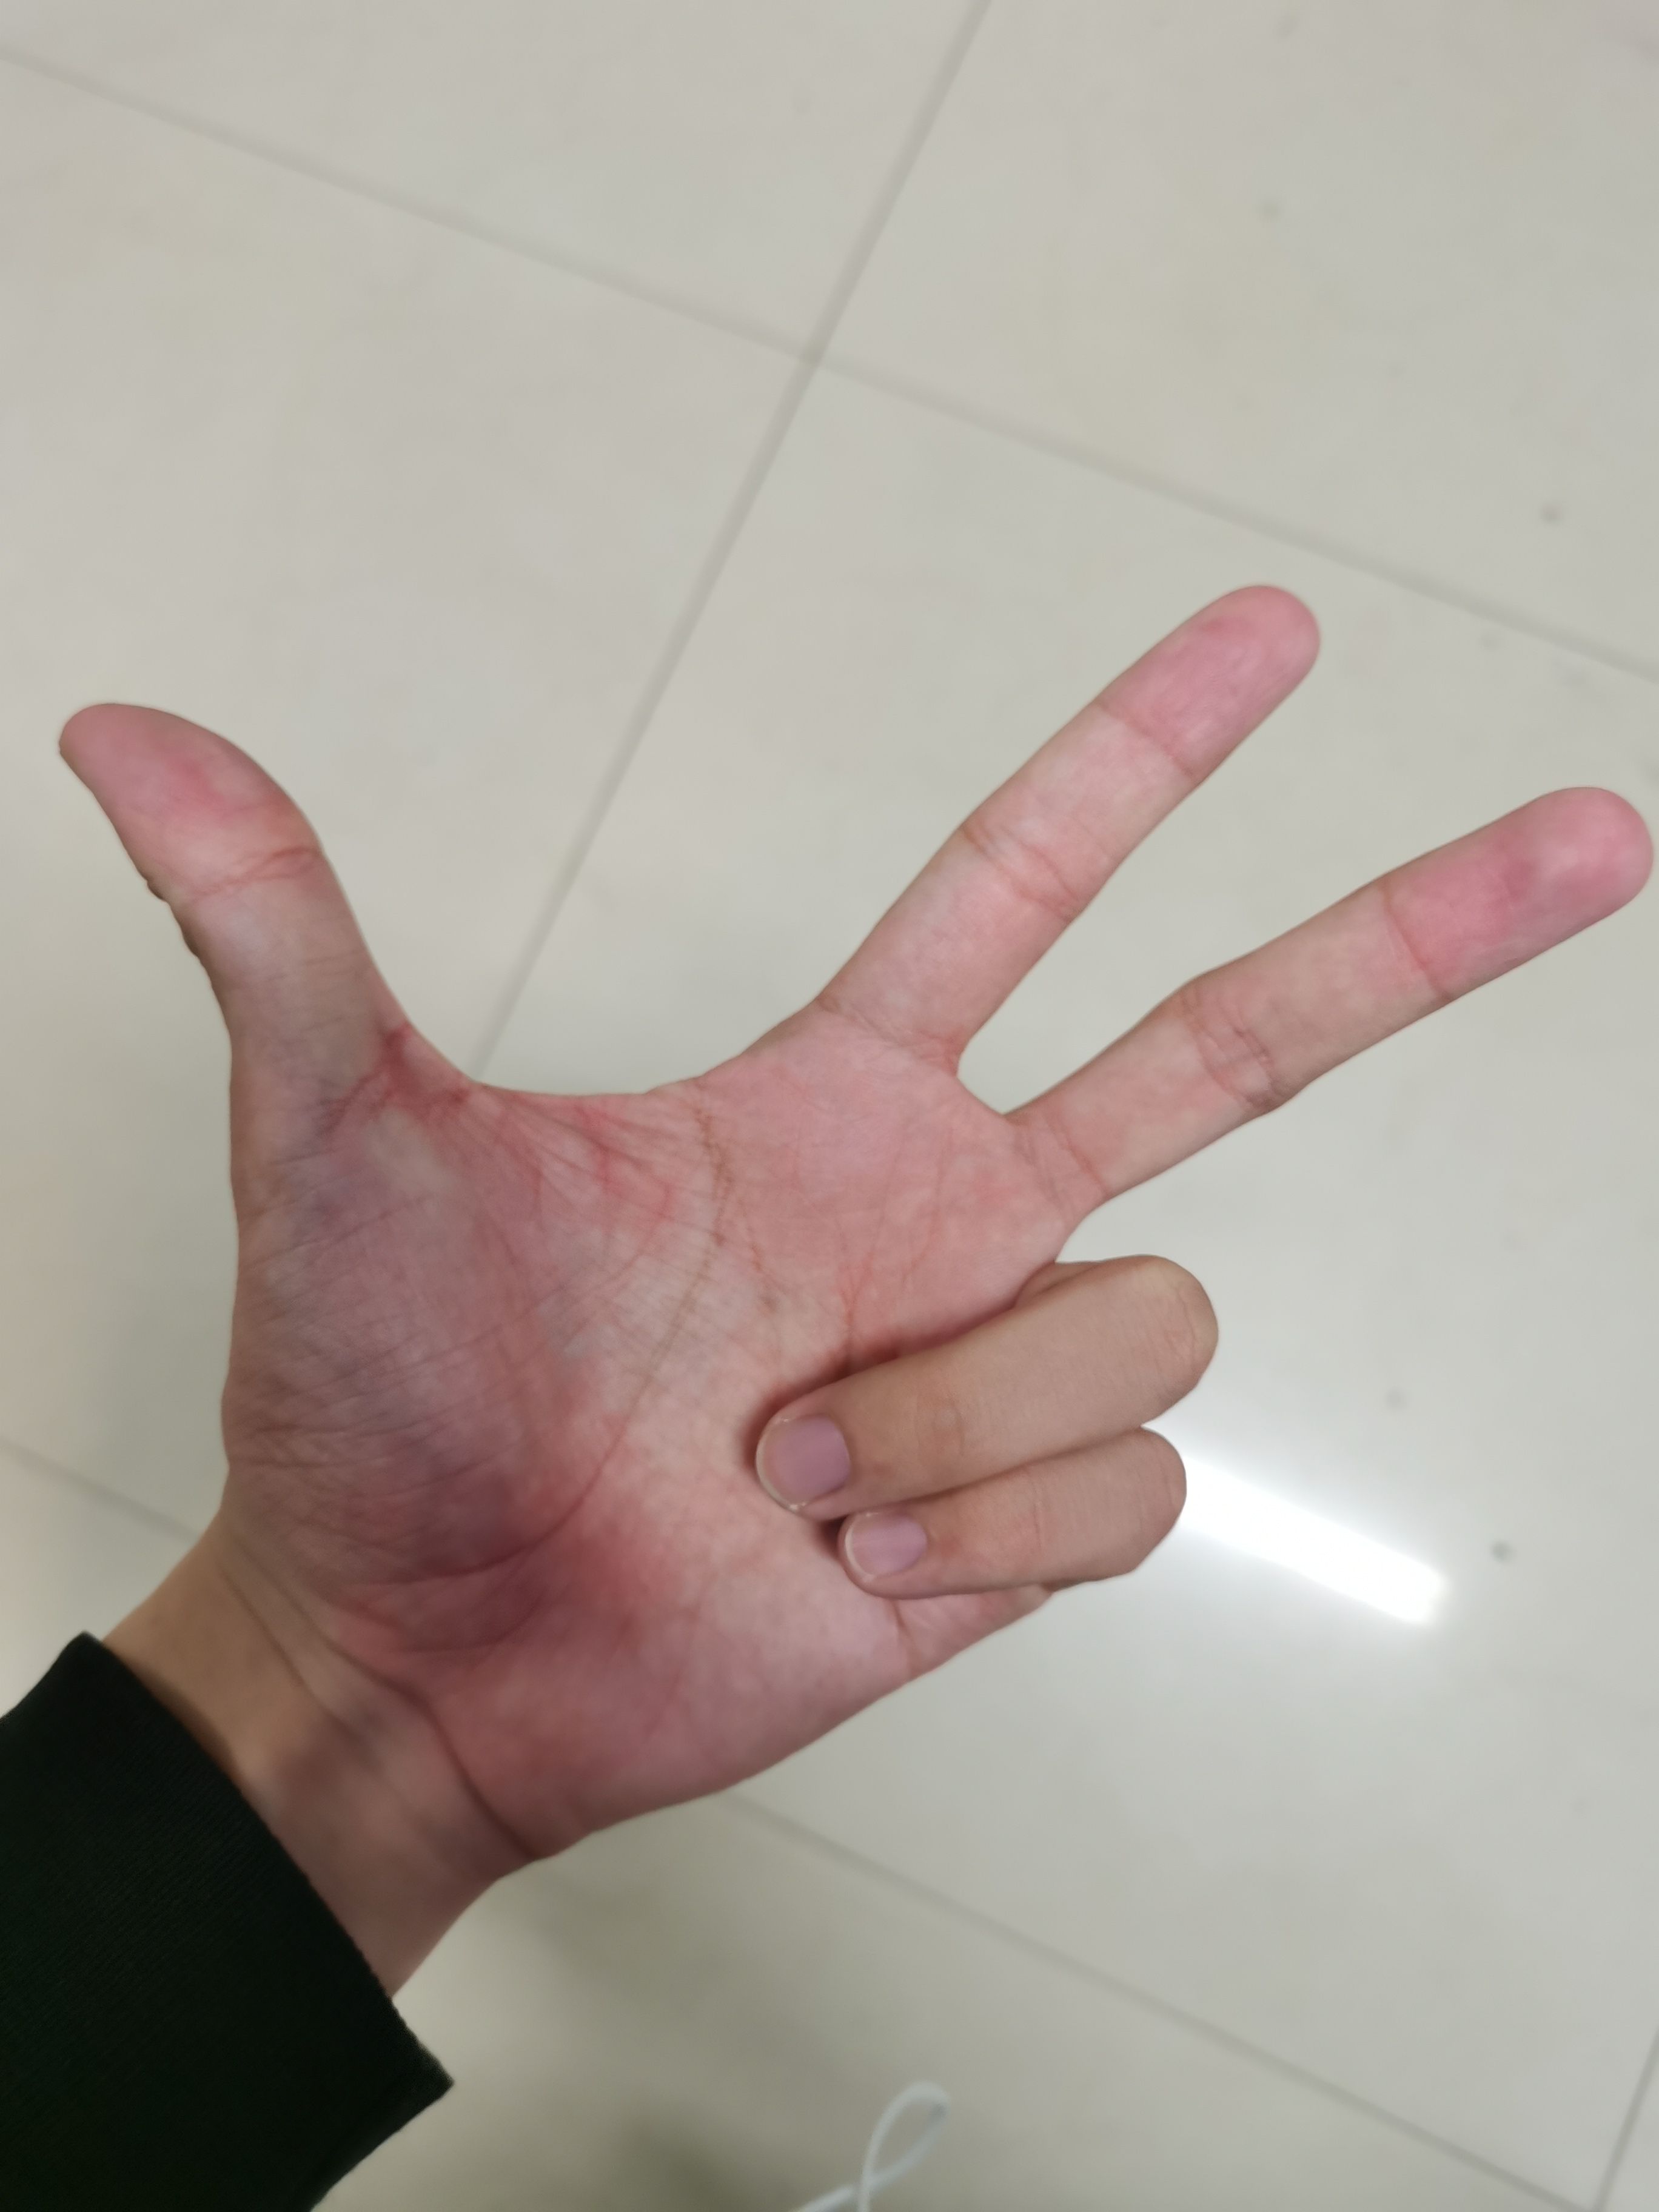no-phone: (38, 505, 1659, 1855)
